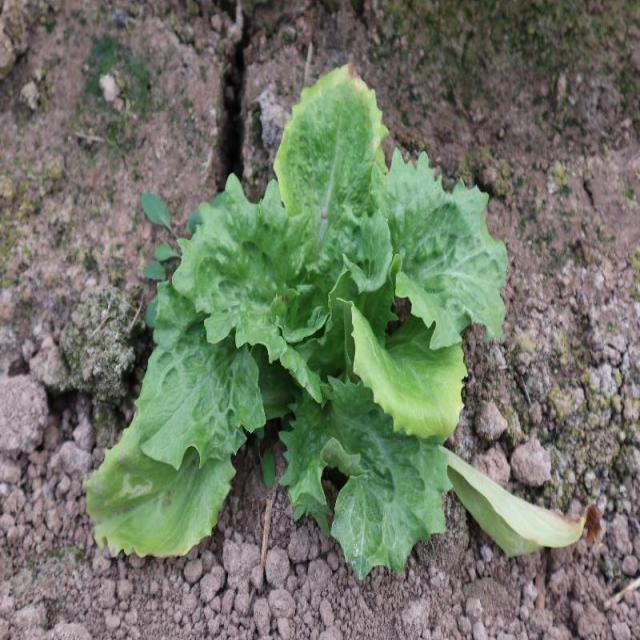crop: (82, 63, 508, 585)
